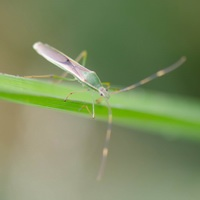insect: (33, 42, 186, 178)
